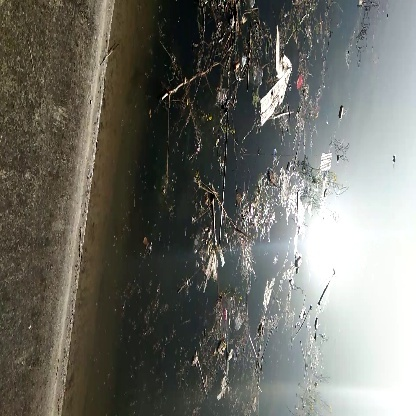plastic-bag: (261, 33, 300, 127)
